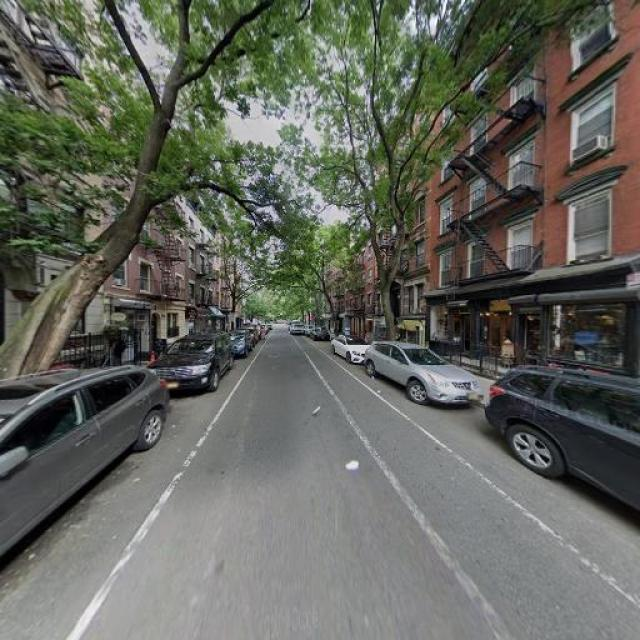Building: (435, 1, 640, 427), (1, 1, 90, 404)
